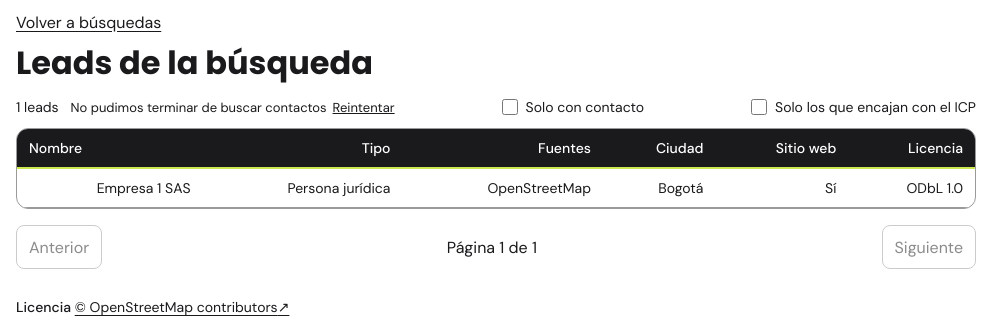
it: si hubo error muestra el aviso chico con Reintentar, que vuelve a arrancar
This screenshot has width=993, height=334.
Expected: the text "No pudimos terminar de buscar contactos" is shown, 71,99 -> 327,116
Click the button "Reintentar" at [364, 108], box 333,99 -> 395,116
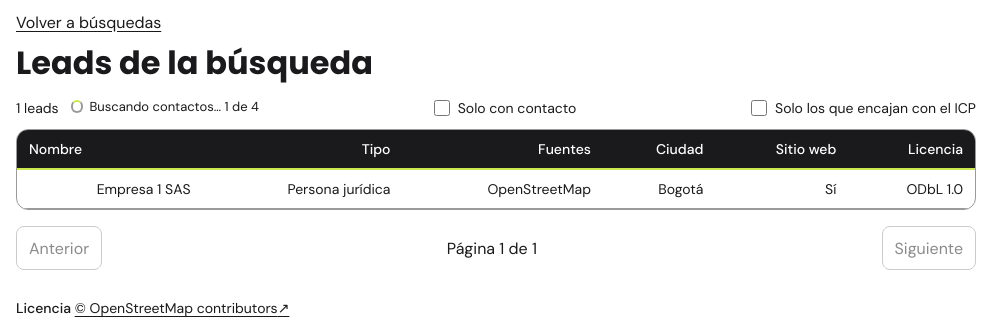
Now the text "Buscando contactos… 1 de 4" is shown, box 89,98 -> 259,115
Now the text "No pudimos terminar de buscar contactos" is gone
